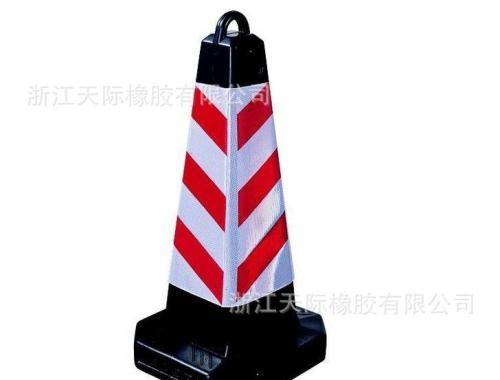cone_barrel: (145, 3, 322, 372)
